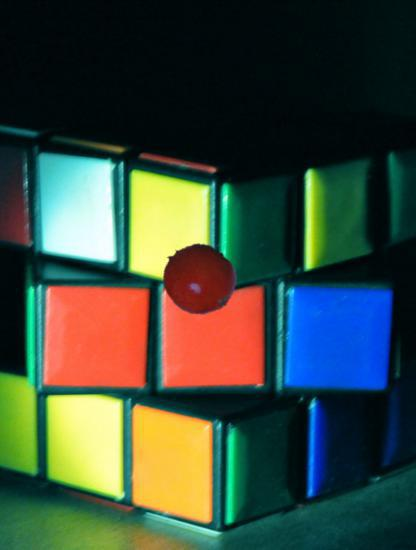Pomegranate: (160, 239, 238, 317)
